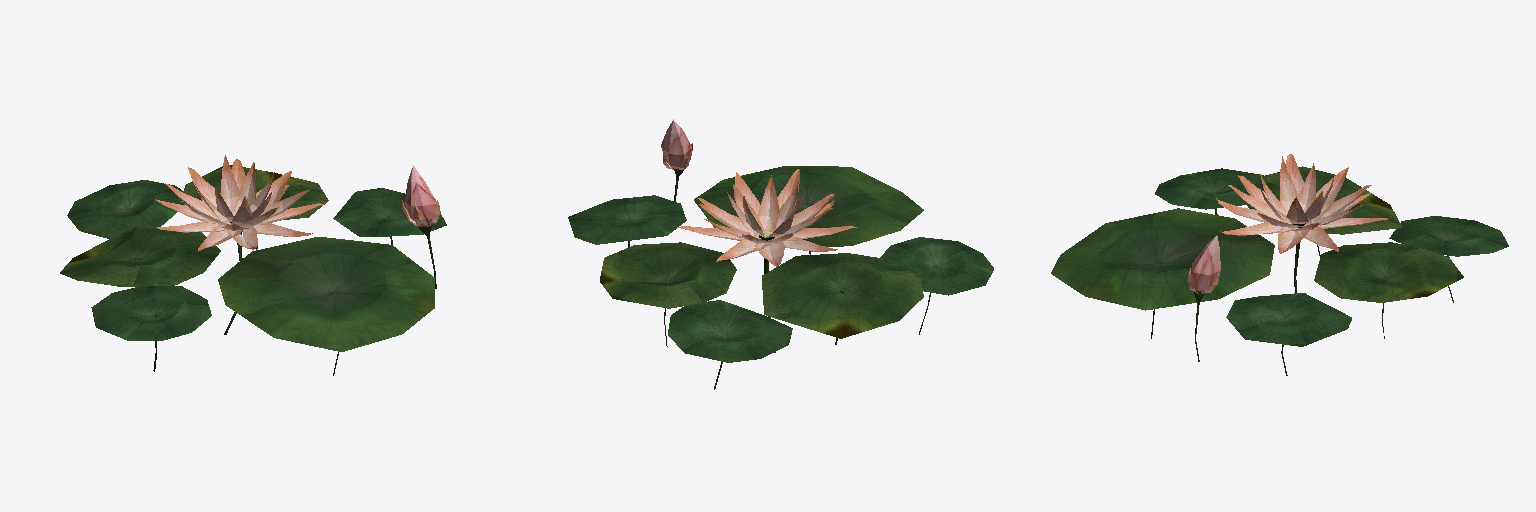
3 views of the same model, side by side, from view 1: azimuth 30°, elevation 25°; view 2: azimuth 150°, elevation 25°; view 3: azimuth 270°, elevation 25° (orthographic).
Visible parts, largest first — view 1: bsth_lhh_pj_001; view 2: bsth_lhh_pj_001; view 3: bsth_lhh_pj_001.
Part boxes in pixels (left/top/right/bottom): bsth_lhh_pj_001: left=60, top=155, right=446, bottom=375; bsth_lhh_pj_001: left=568, top=119, right=993, bottom=389; bsth_lhh_pj_001: left=1051, top=154, right=1508, bottom=375.
Size of the model in its own units: 3.48 by 1.46 by 3.66.
1 materials, 1 textured.